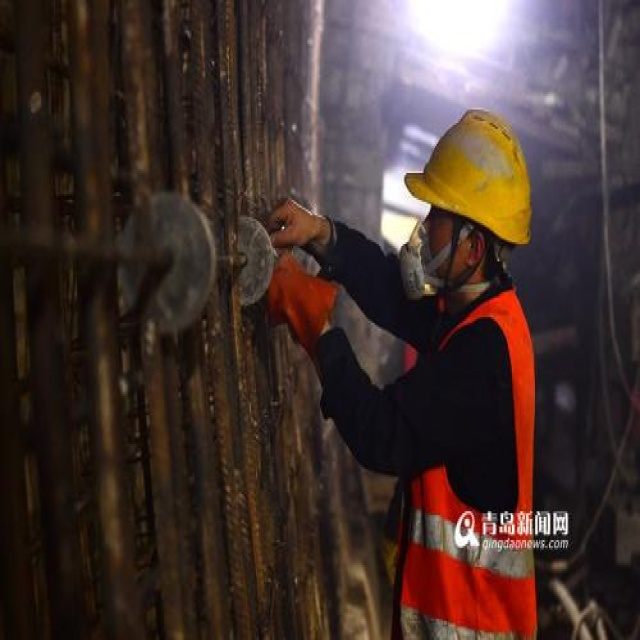Helmet: (381, 94, 544, 309)
Reflective vest: (391, 283, 541, 640)
